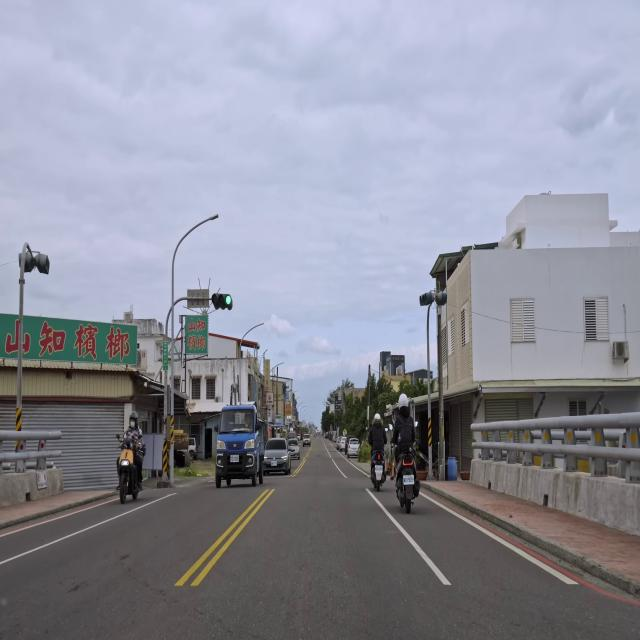green light: (211, 293, 233, 311)
